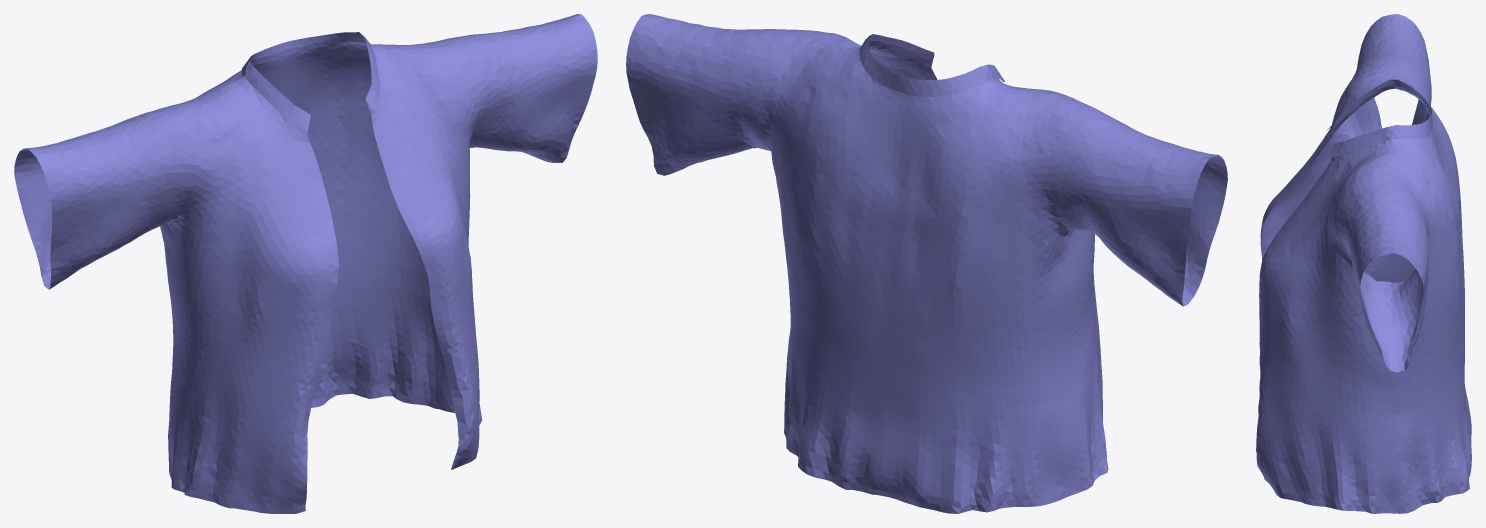
Rendered from 02394-grade-rotate.obj.
3 views of the same model, side by side, from view 1: azimuth 30°, elevation 25°; view 2: azimuth 150°, elevation 25°; view 3: azimuth 270°, elevation 25° (orthographic). The views are drawn at different scales.
Size of the model in its own units: 0.7741 by 0.5439 by 0.2934.
